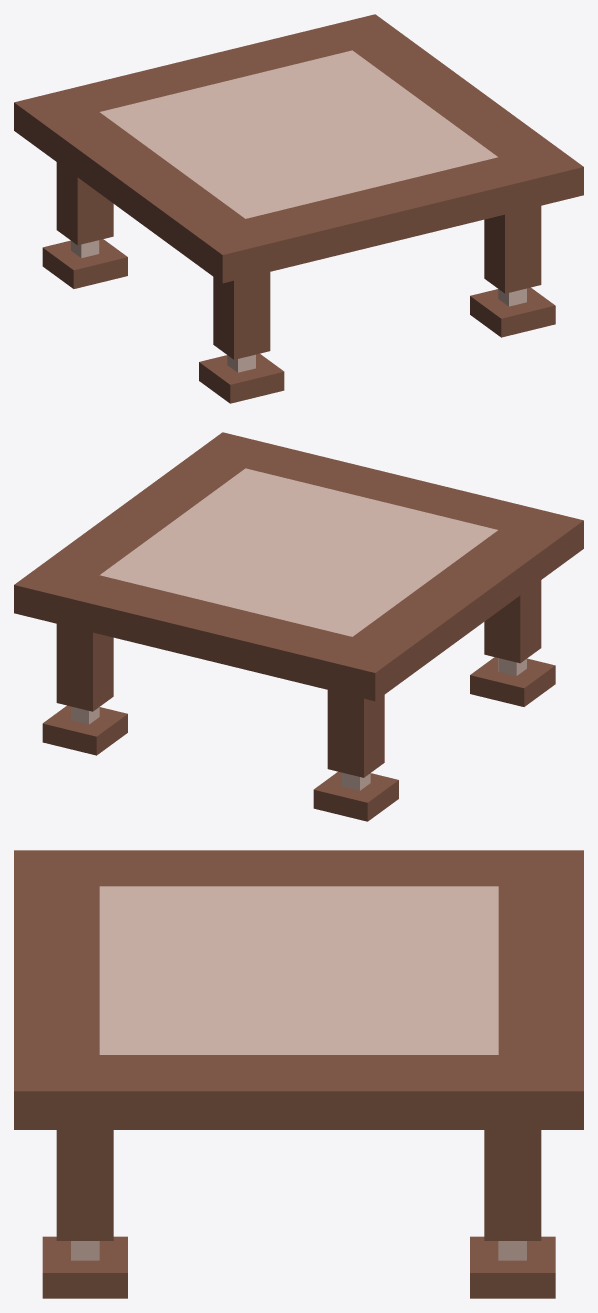
The model's file is Table.obj.
3 views of the same model, one above another, from view 1: azimuth 30°, elevation 25°; view 2: azimuth 150°, elevation 25°; view 3: azimuth 270°, elevation 25° (orthographic). The views are drawn at different scales.
Bounding box in the file's own units: 4 × 1.7 × 4.
1 material, 1 textured.
